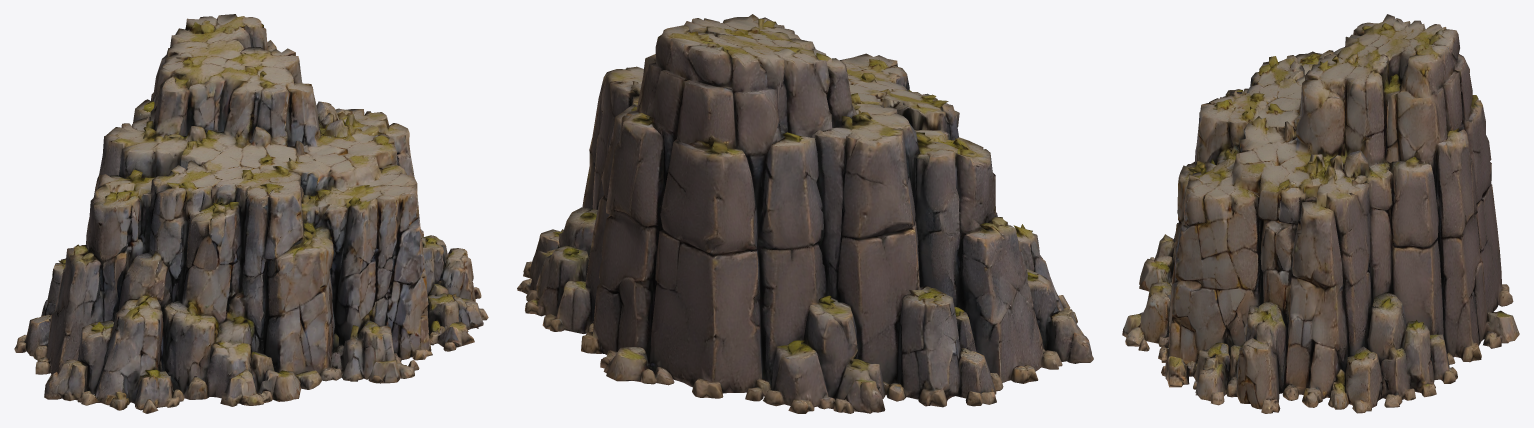
The model's file is gm-rock-2k-a12adb2c88e0.glb.
3 renders of one model, left to right at view 1: azimuth 30°, elevation 25°; view 2: azimuth 150°, elevation 25°; view 3: azimuth 270°, elevation 25°, orthographic. The views are drawn at different scales.
Visible parts, largest first — view 1: Tropical_Rock_Formation; view 2: Tropical_Rock_Formation; view 3: Tropical_Rock_Formation.
Part boxes in pixels (left/top/right/bottom): Tropical_Rock_Formation: left=14, top=14, right=488, bottom=413; Tropical_Rock_Formation: left=517, top=14, right=1093, bottom=413; Tropical_Rock_Formation: left=1122, top=14, right=1519, bottom=413.
Size of the model in its own units: 12 by 7 by 9.
Materials: 1 (1 with a texture image).
